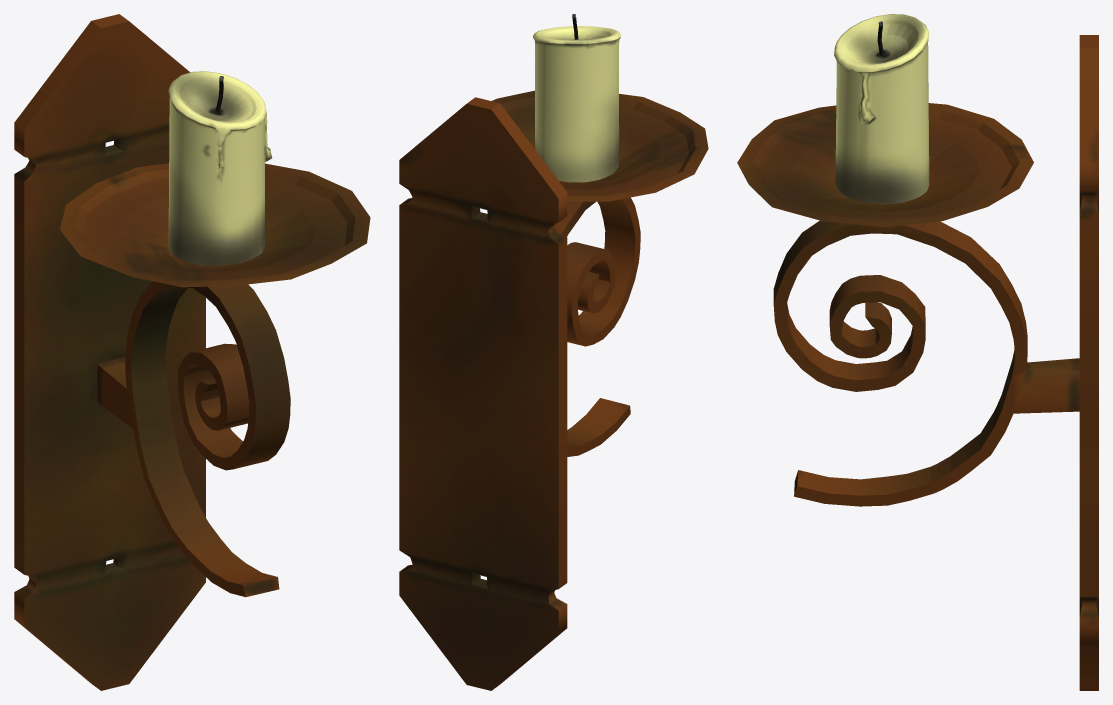
File: candle_updated.fbx
3 views of the same model, side by side, from view 1: azimuth 30°, elevation 25°; view 2: azimuth 150°, elevation 25°; view 3: azimuth 270°, elevation 25° (orthographic). The views are drawn at different scales.
Parts seen in each view (by area): view 1: holder, candle1; view 2: holder, candle1; view 3: holder, candle1.
Part boxes in pixels (x1,y1,x2,y2): holder: [14, 14, 370, 690]; candle1: [168, 71, 272, 265]; holder: [399, 90, 708, 690]; candle1: [533, 14, 620, 182]; holder: [737, 35, 1098, 690]; candle1: [834, 14, 929, 204].
Bounding box in the file's own units: 1.23 × 2.98 × 1.47.
2 materials, 2 textured.
